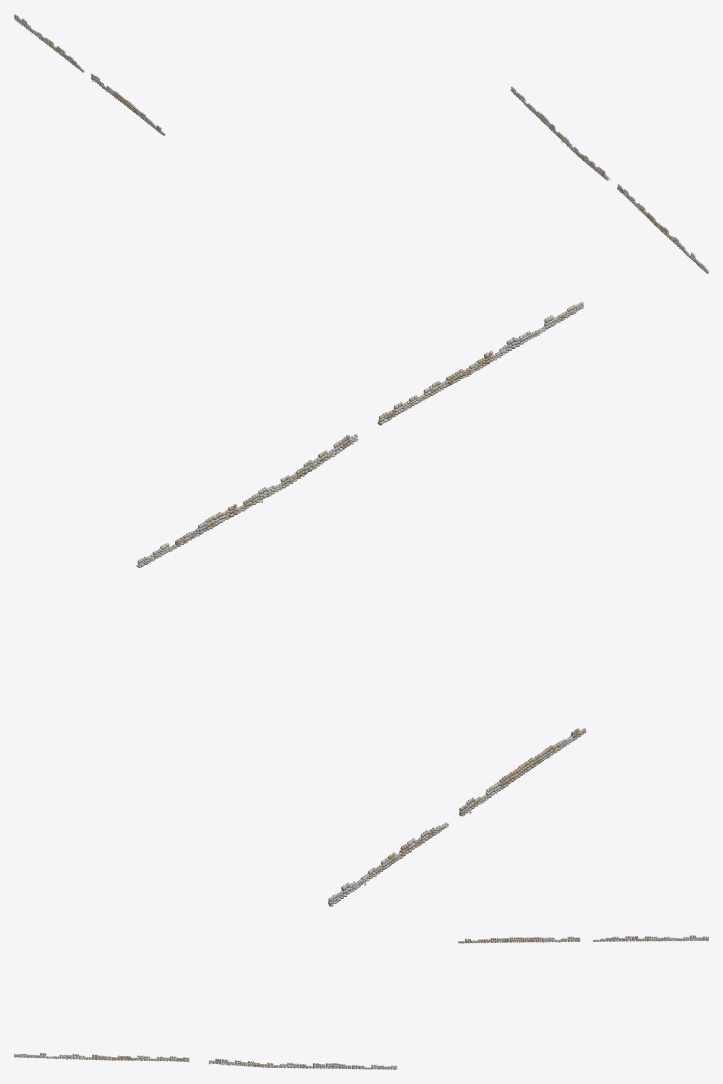
File: farm_20_17_near.glb
3 views of the same model, one above another, from view 1: azimuth 30°, elevation 25°; view 2: azimuth 150°, elevation 25°; view 3: azimuth 270°, elevation 25° (orthographic). The views are drawn at different scales.
Parts seen in each view (by area): view 1: geometry_0; view 2: geometry_0; view 3: geometry_0.
Part boxes in pixels (left/top/right/bottom): geometry_0: left=14, top=14, right=708, bottom=273; geometry_0: left=136, top=302, right=586, bottom=906; geometry_0: left=14, top=935, right=708, bottom=1069.
Bounding box in the file's own units: 71.92 × 4.01 × 169.
